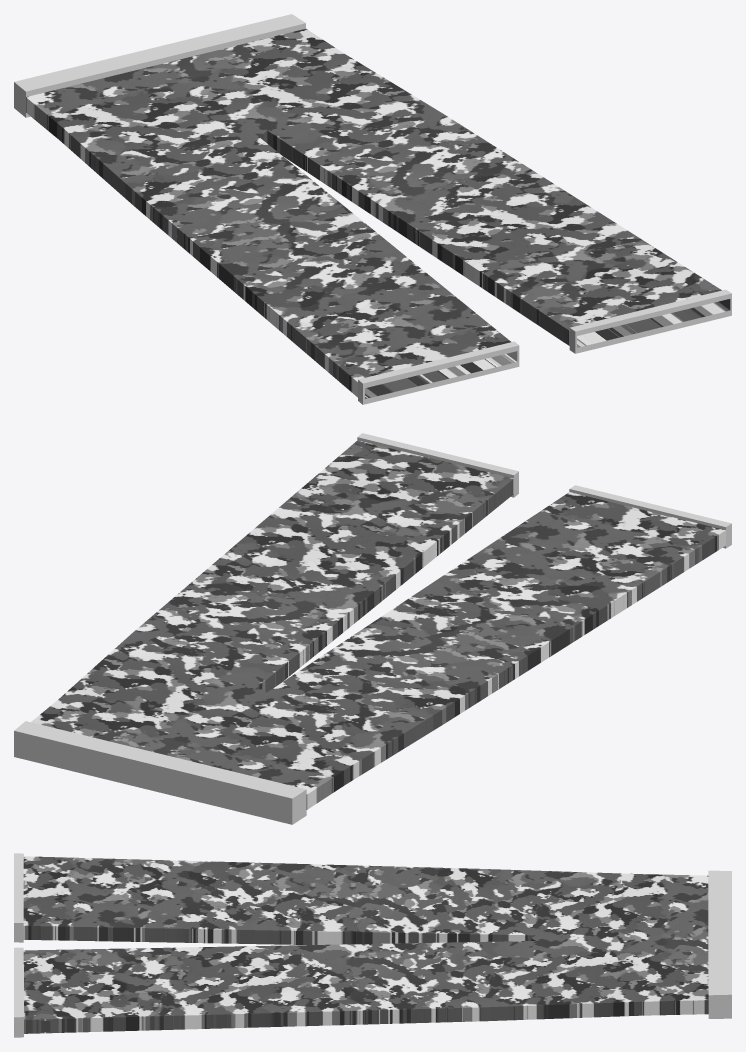
File: pants7.fbx
3 views of the same model, one above another, from view 1: azimuth 30°, elevation 25°; view 2: azimuth 150°, elevation 25°; view 3: azimuth 270°, elevation 25° (orthographic). The views are drawn at different scales.
Visible parts, largest first — view 1: pants7; view 2: pants7; view 3: pants7.
Part boxes in pixels (left/top/right/bottom): pants7: left=14, top=14, right=731, bottom=404; pants7: left=14, top=433, right=731, bottom=824; pants7: left=14, top=853, right=731, bottom=1037.
Size of the model in its own units: 0.504 by 0.0342 by 0.9314.
